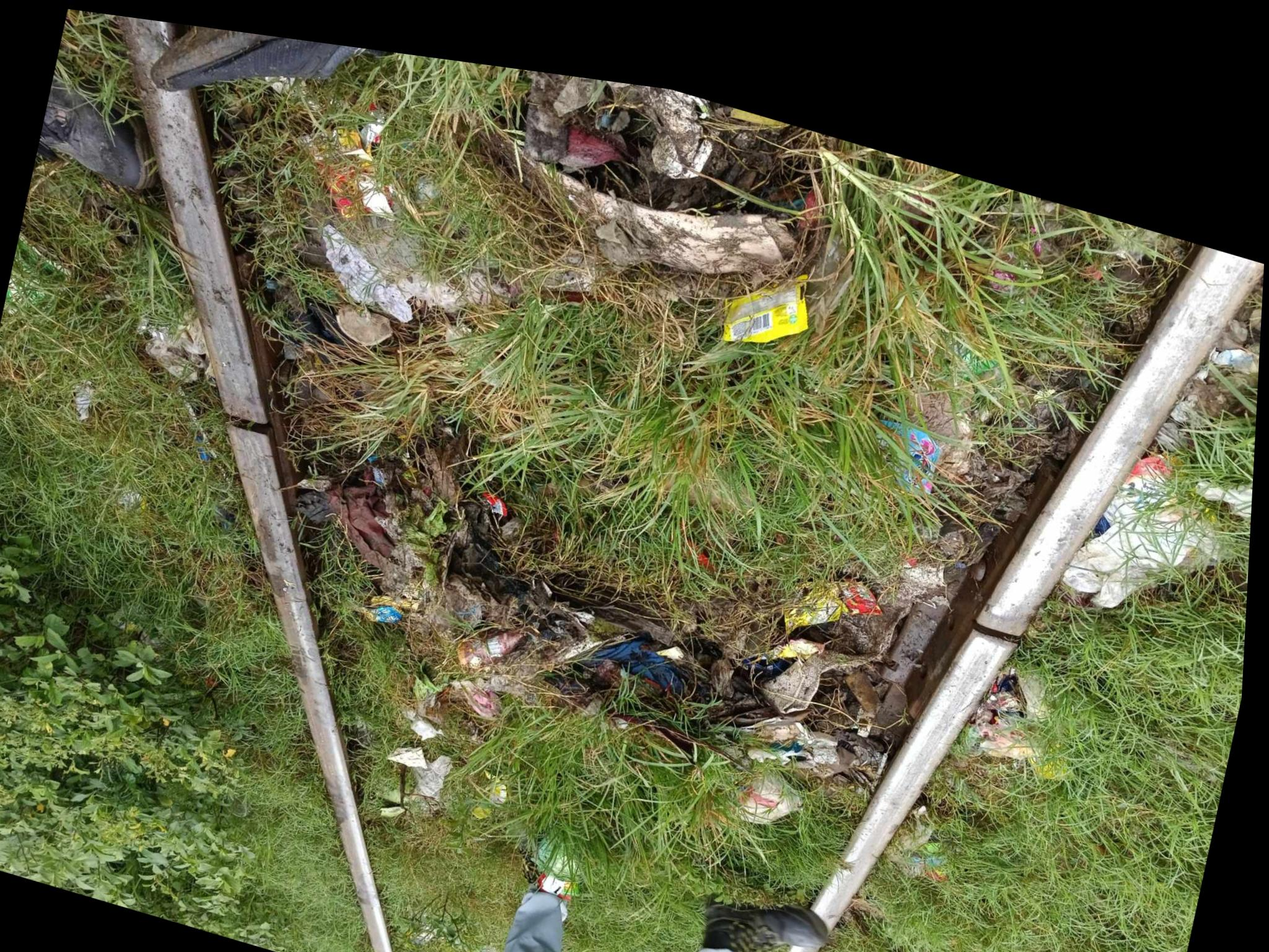person: (939, 539, 1066, 659), (190, 356, 315, 474)
